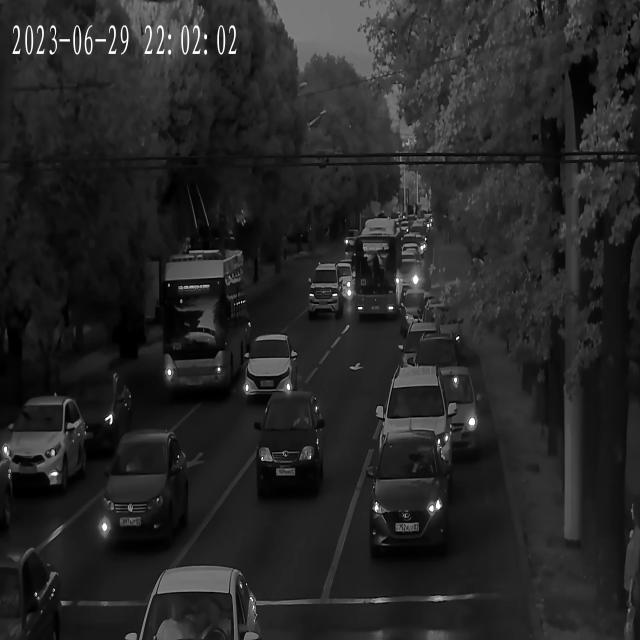Bus: (162, 245, 250, 402), (354, 220, 404, 322)
Car: (102, 430, 189, 553), (135, 563, 258, 640), (371, 432, 445, 554), (381, 366, 452, 490), (9, 394, 87, 497), (257, 392, 327, 498), (0, 548, 65, 640), (418, 368, 478, 458), (68, 371, 129, 449), (240, 326, 298, 408), (416, 326, 462, 409), (306, 263, 341, 325), (399, 286, 436, 340), (329, 263, 353, 301), (396, 254, 421, 290), (400, 242, 424, 274)
